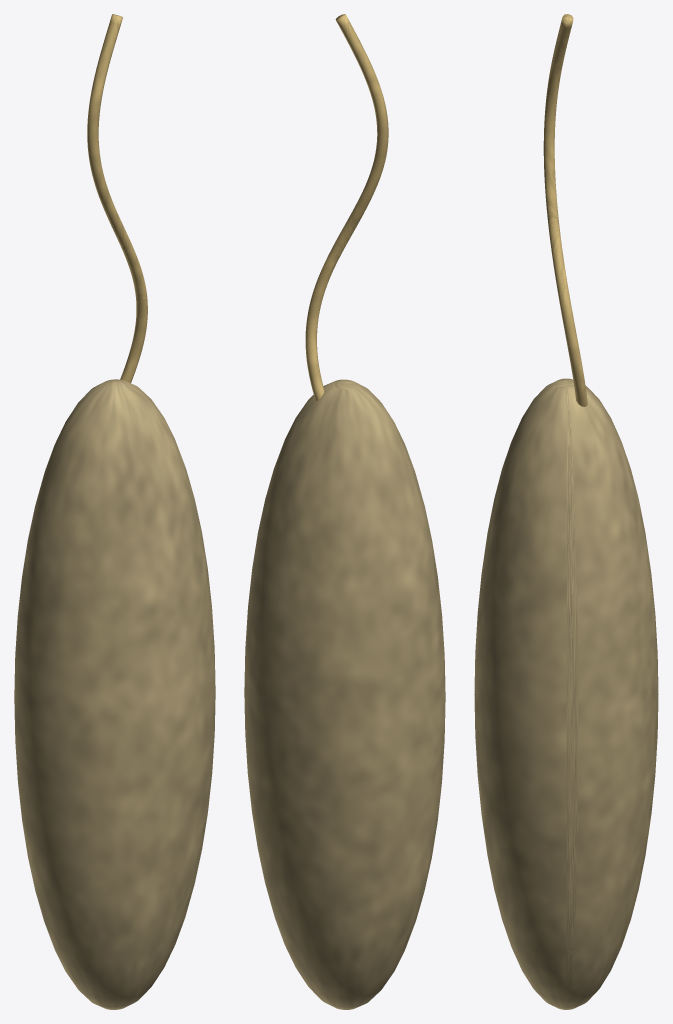
File: complete.glb
3 renders of one model, left to right at view 1: azimuth 30°, elevation 25°; view 2: azimuth 150°, elevation 25°; view 3: azimuth 270°, elevation 25°, orthographic.
Parts seen in each view (by area): view 1: membrana_mesh, flagelo_mesh; view 2: membrana_mesh, flagelo_mesh; view 3: membrana_mesh, flagelo_mesh.
Boxes of the visible parts, x1,y1,x2,y2 form: membrana_mesh: (14, 379, 215, 1009); flagelo_mesh: (87, 14, 147, 383); membrana_mesh: (244, 379, 445, 1009); flagelo_mesh: (305, 14, 388, 400); membrana_mesh: (474, 378, 658, 1009); flagelo_mesh: (543, 14, 587, 406).
Size of the model in its own units: 0.72 by 3.81 by 0.64.
5 materials, 5 textured.
